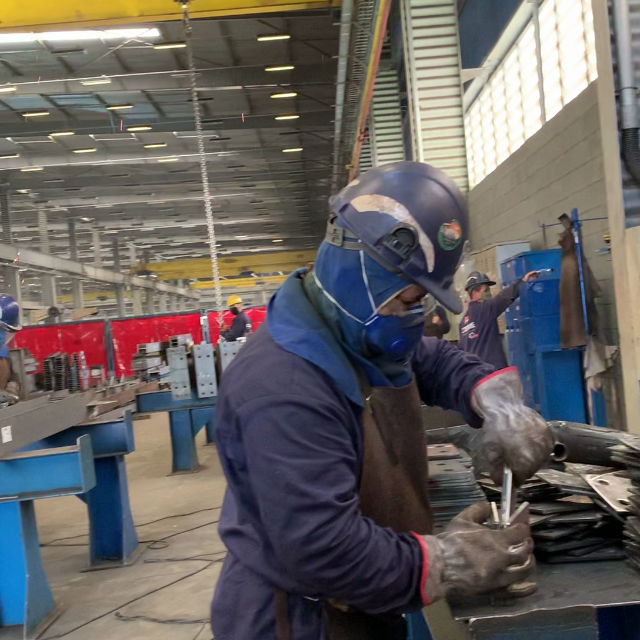face-shield: (359, 247, 438, 330)
glove: (413, 501, 543, 607), (469, 365, 552, 491), (458, 268, 540, 356)
helmet: (325, 159, 467, 317)
mask: (363, 315, 424, 356), (482, 290, 493, 299)
person: (213, 159, 553, 634)
